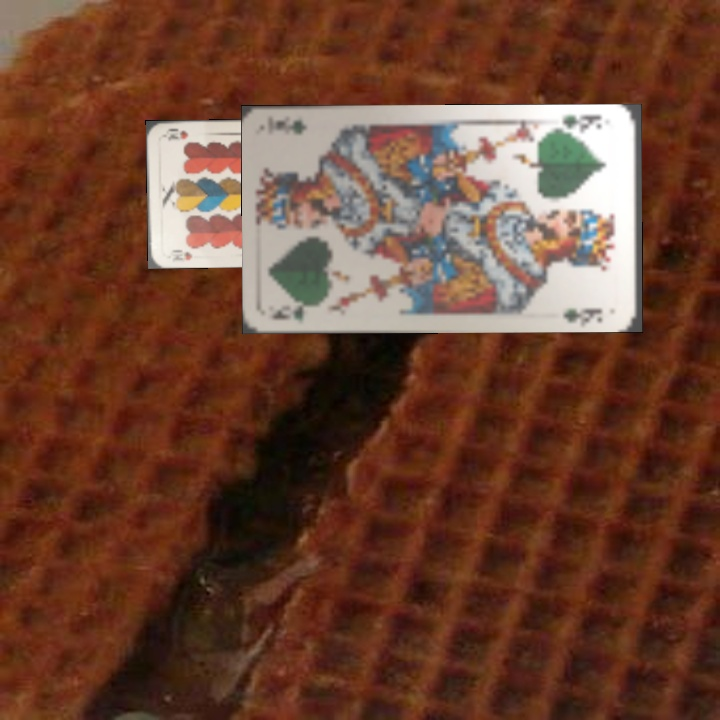GK: (267, 298, 326, 325), (556, 111, 604, 138)
H10: (166, 246, 194, 263)
